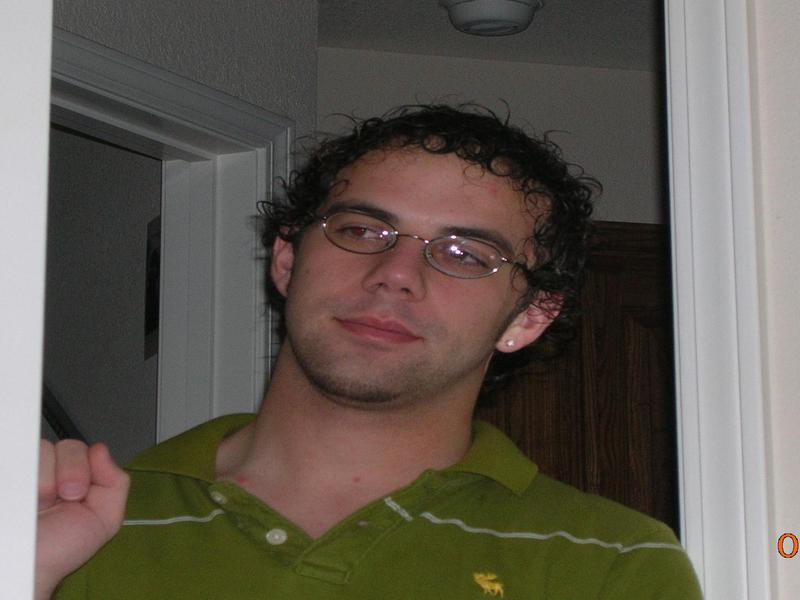person: (49, 96, 702, 600)
